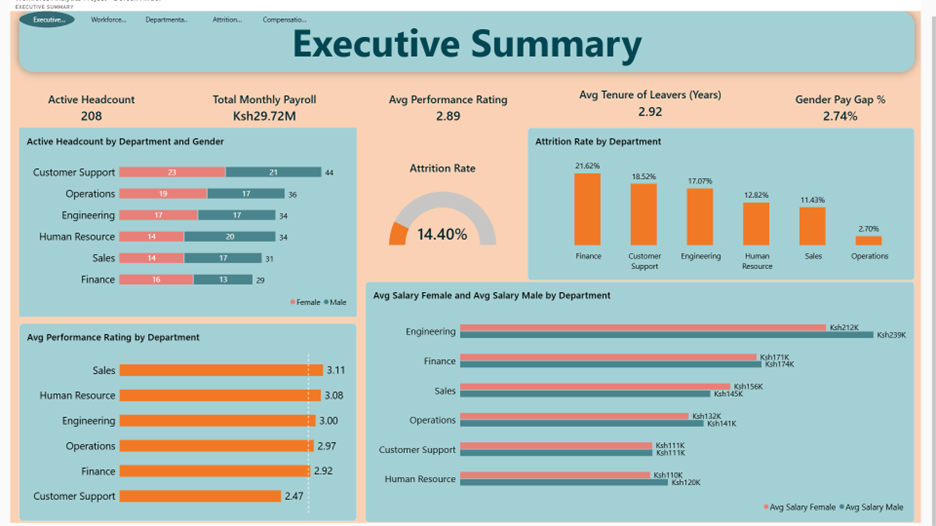

This screenshot's page, from the dashboard's own definition file:
{"tool":"powerbi","page":{"name":"Executive Summary","canvas":[1920,1080],"ordinal":0},"visuals":[{"type":"cardVisual","fields":{"Data":["Workforce Data.Avg Tenure of Leavers (Years)"]},"box":[1181,90.7,338.8,210],"z":0},{"type":"cardVisual","fields":{"Data":["Workforce Data.Total Monthly Payroll"]},"box":[405.6,90.7,262.5,229],"z":1000},{"type":"textbox","box":[19.1,0,1887.3,128.8],"z":2000},{"type":"barChart","fields":{"Category":["Department.Department"],"Y":["Workforce Data.Avg Performance Rating"]},"box":[19.1,658.5,711,417.5],"z":3000},{"type":"cardVisual","fields":{"Data":["Workforce Data.Gender Pay Gap %"]},"box":[1622.4,90.7,257.7,229],"z":4000},{"type":"cardVisual","fields":{"Data":["Workforce Data.Active Headcount"]},"box":[40.6,90.7,262.5,229],"z":5000},{"type":"cardVisual","fields":{"Data":["Workforce Data.Avg Performance Rating"]},"box":[770.7,90.7,307.8,229],"z":6000},{"type":"barChart","fields":{"Category":["Department.Department"],"Series":["Workforce Data.Gender"],"Y":["Workforce Data.Active Headcount"]},"box":[19.1,245.7,711,398.4],"z":7000},{"type":"columnChart","fields":{"Category":["Workforce Data.Department"],"Y":["Workforce Data.Attrition Rate"]},"box":[1090.4,245.7,816,322.1],"z":8000},{"type":"clusteredBarChart","fields":{"Category":["Workforce Data.Department Hierarchy.Department"],"Y":["Workforce Data.Avg Salary Female","Workforce Data.Avg Salary Male"]},"box":[749.2,570.2,1157.2,508.2],"z":9000},{"type":"gauge","fields":{"Y":["Workforce Data.Attrition Rate"]},"box":[782.6,300.6,257.7,229],"z":10000},{"type":"pageNavigator","box":[19.1,0,620.3,35.8],"z":11000}]}

Visuals, with their boxes on the page's 1920x1080 design canvas (x1, y1, x2, y2). These are canvas units, not pixel positions in the 936x526 screenshot, which may show the page scaled, cropped or inside an application window:
cardVisual - Workforce Data.Avg Tenure of Leavers (Years): (1181,91,1520,301)
cardVisual - Workforce Data.Total Monthly Payroll: (406,91,668,320)
textbox: (19,0,1906,129)
barChart - Department.Department x Workforce Data.Avg Performance Rating: (19,658,730,1076)
cardVisual - Workforce Data.Gender Pay Gap %: (1622,91,1880,320)
cardVisual - Workforce Data.Active Headcount: (41,91,303,320)
cardVisual - Workforce Data.Avg Performance Rating: (771,91,1078,320)
barChart - Department.Department x Workforce Data.Gender: (19,246,730,644)
columnChart - Workforce Data.Department x Workforce Data.Attrition Rate: (1090,246,1906,568)
clusteredBarChart - Workforce Data.Department Hierarchy.Department x Workforce Data.Avg Salary Female: (749,570,1906,1078)
gauge - Workforce Data.Attrition Rate: (783,301,1040,530)
pageNavigator: (19,0,639,36)
